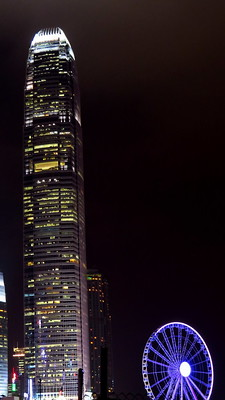low: (17, 22, 96, 399)
